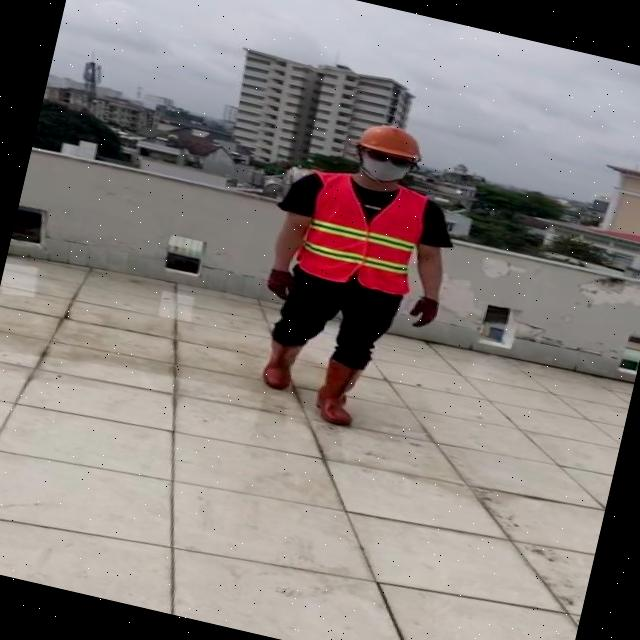boots: (310, 358, 368, 428), (254, 334, 304, 394)
